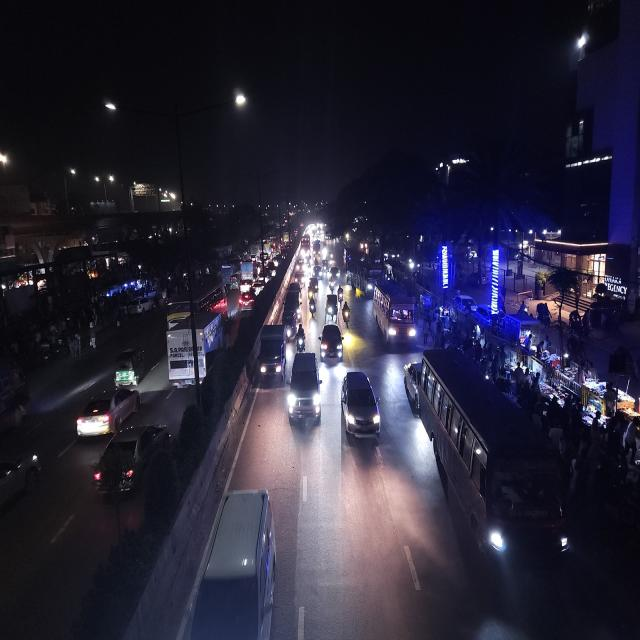bus: (418, 346, 570, 588), (371, 279, 419, 351), (572, 0, 623, 61), (351, 255, 381, 299), (201, 281, 228, 314)
car: (189, 485, 279, 640), (112, 408, 173, 468), (339, 365, 382, 448), (75, 384, 141, 438), (288, 349, 322, 431), (320, 321, 344, 363), (238, 289, 257, 314), (282, 291, 303, 313), (294, 270, 305, 286)
cng: (112, 344, 146, 387), (281, 310, 296, 341), (325, 292, 339, 324), (307, 278, 320, 297)
motorcycle: (296, 322, 306, 352), (342, 300, 352, 328), (308, 296, 318, 320)
truck: (165, 316, 211, 390), (257, 321, 287, 391), (240, 258, 254, 284)
